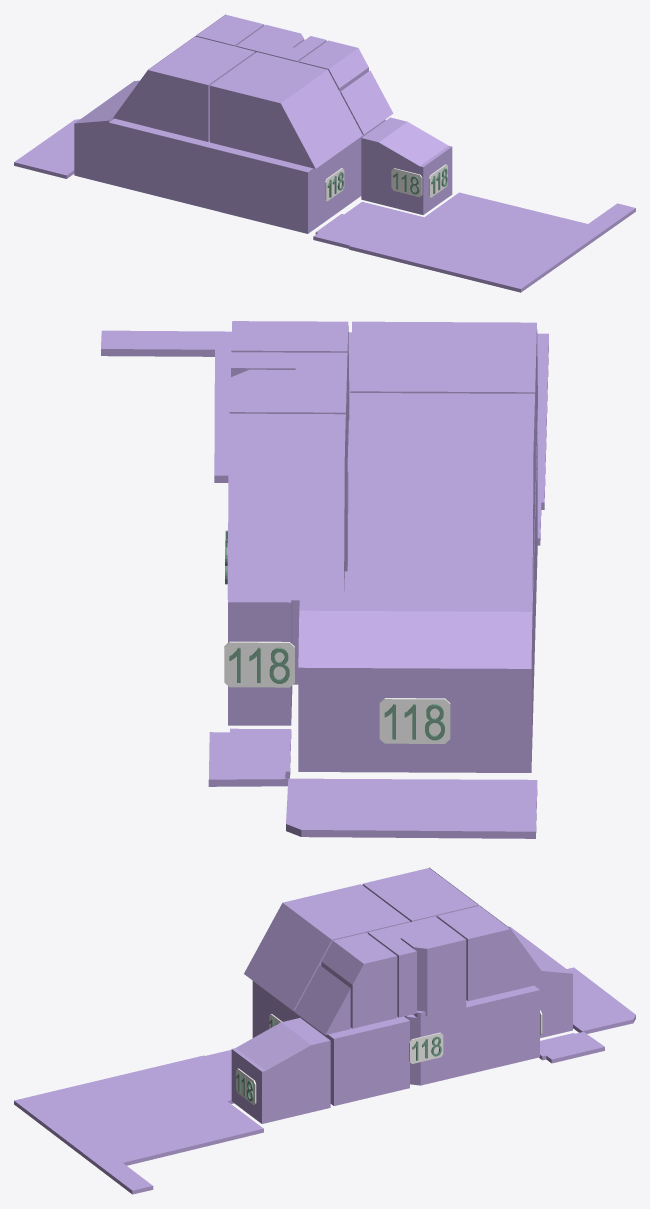
3 views of the same model, one above another, from view 1: azimuth 30°, elevation 25°; view 2: azimuth 150°, elevation 25°; view 3: azimuth 270°, elevation 25° (orthographic). The views are drawn at different scales.
Parts seen in each view (by area): view 1: g_13, g_7, g_1, g_0, g_8, g_5, g_15, g_6, g_12, g_10, g_9, g_11 (+1 smaller); view 2: g_8, g_1, g_9, g_15, g_7, g_13, g_4, g_10, g_14, g_6, g_27, g_39 (+1 smaller); view 3: g_13, g_7, g_5, g_0, g_9, g_4, g_6, g_11, g_2, g_8, g_10, g_1 (+4 smaller).
Part boxes in pixels (box(x1,y1,x2,y2)): g_13: box(313, 192, 635, 292); g_7: box(210, 52, 362, 168); g_1: box(74, 80, 243, 216); g_0: box(238, 119, 385, 233); g_8: box(113, 36, 255, 141); g_5: box(361, 117, 452, 214); g_15: box(14, 119, 80, 178); g_6: box(298, 40, 368, 92); g_12: box(340, 70, 393, 134); g_10: box(236, 33, 326, 62); g_9: box(195, 14, 264, 46); g_11: box(254, 25, 304, 47); g_8: box(347, 393, 534, 601); g_1: box(298, 489, 535, 772); g_9: box(227, 413, 345, 600); g_15: box(285, 778, 537, 838); g_7: box(350, 321, 537, 505); g_13: box(101, 330, 548, 545); g_4: box(228, 555, 345, 725); g_10: box(231, 352, 347, 518); g_14: box(208, 728, 291, 786); g_6: box(231, 321, 348, 457); g_27: box(224, 641, 294, 687); g_39: box(379, 698, 450, 743); g_13: box(14, 1049, 263, 1194); g_7: box(244, 884, 410, 1010); g_5: box(231, 1018, 330, 1123); g_0: box(252, 981, 409, 1105); g_9: box(437, 905, 549, 1000); g_4: box(466, 985, 539, 1073); g_6: box(321, 933, 397, 1028); g_11: box(401, 930, 466, 1011); g_2: box(404, 1002, 468, 1085); g_8: box(362, 867, 479, 921); g_10: box(368, 916, 453, 1017); g_1: box(508, 926, 572, 1038).
Size of the model in its own units: 18.34 by 5.36 by 21.59.
